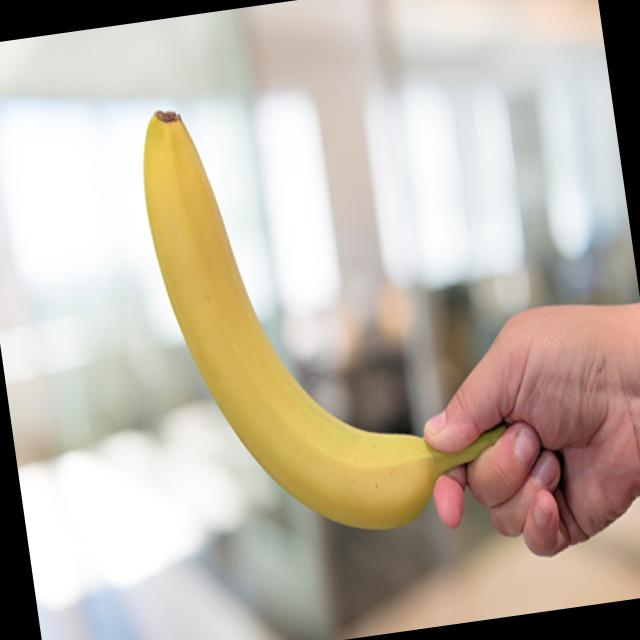banana_peel: (132, 99, 525, 545)
